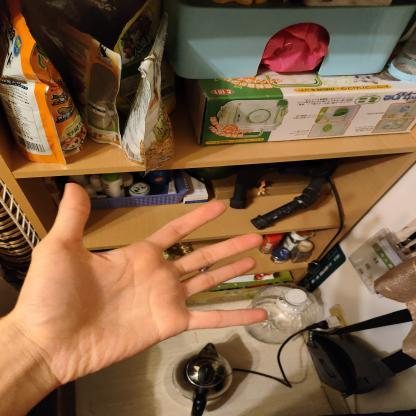bare_hand: (6, 176, 269, 416)
